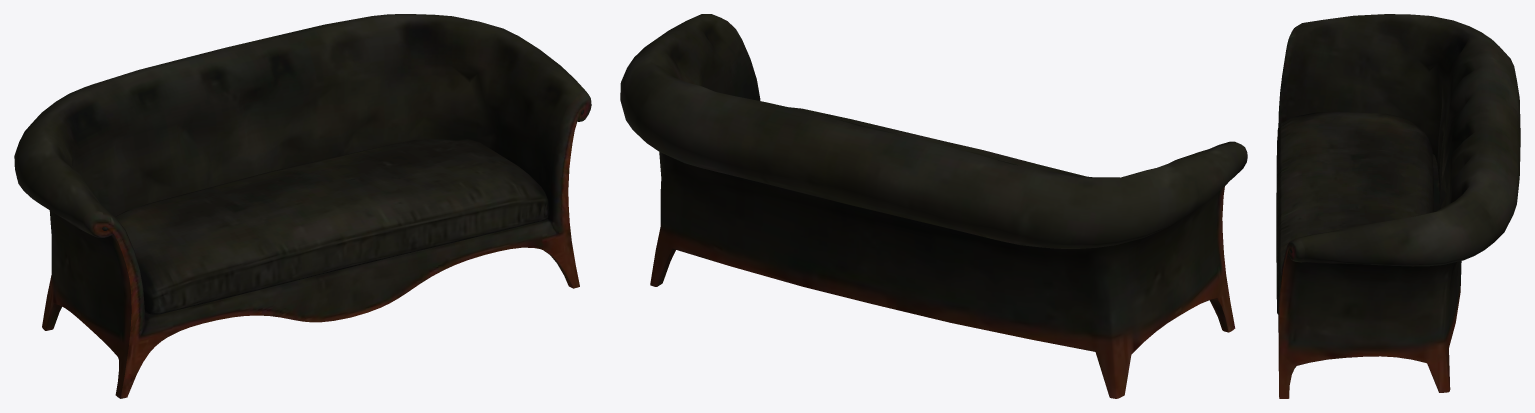
The model's file is m_sofa_02.glb.
The picture shows the model from 3 angles, left to right: view 1: azimuth 30°, elevation 25°; view 2: azimuth 150°, elevation 25°; view 3: azimuth 270°, elevation 25°; orthographic projection. The views are drawn at different scales.
Parts seen in each view (by area): view 1: sofa_02_Base; view 2: sofa_02_Base; view 3: sofa_02_Base.
Part boxes in pixels (box(x1,y1,x2,y2)): sofa_02_Base: box(14, 14, 591, 398); sofa_02_Base: box(620, 14, 1247, 398); sofa_02_Base: box(1276, 14, 1520, 398).
Bounding box in the file's own units: 1.81 × 0.7095 × 0.8176.
1 material, 1 textured.
